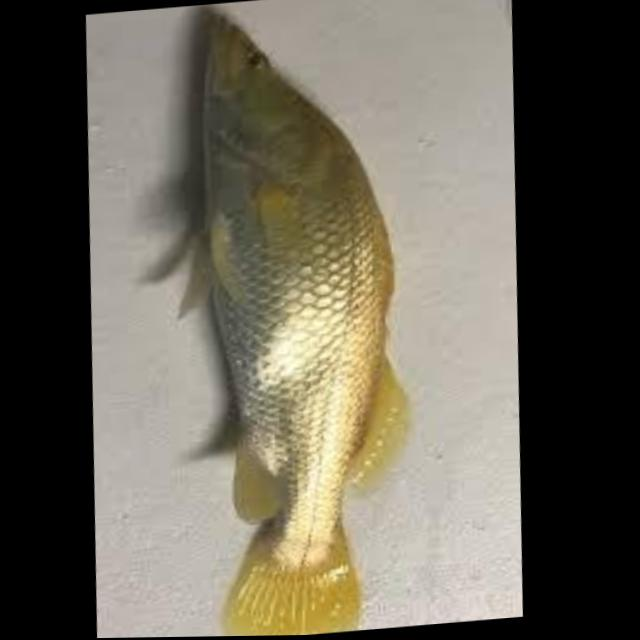Seabass: (144, 0, 447, 637)
